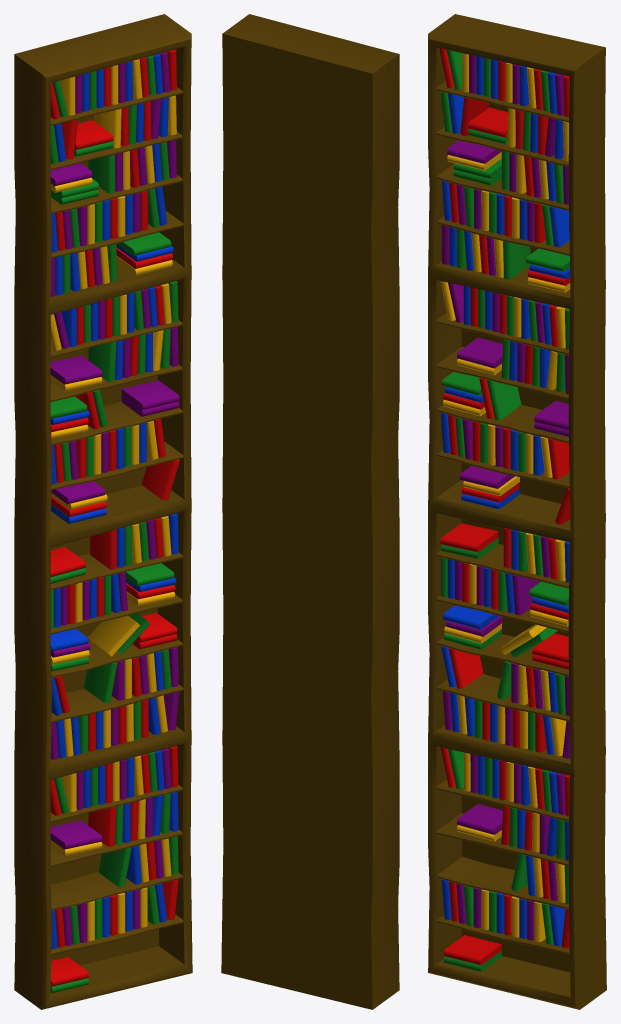
File: bookshelf1.fbx
3 renders of one model, left to right at view 1: azimuth 30°, elevation 25°; view 2: azimuth 150°, elevation 25°; view 3: azimuth 330°, elevation 25°, orthographic.
Visible parts, largest first — view 1: shelf, books; view 2: shelf; view 3: shelf, books.
Boxes of the visible parts, x1=… form: shelf: x1=14, y1=14, x2=192, y2=1009; books: x1=50, y1=49, x2=179, y2=993; shelf: x1=221, y1=14, x2=399, y2=1009; shelf: x1=428, y1=14, x2=606, y2=1009; books: x1=439, y1=48, x2=570, y2=971.
Bounding box in the file's own units: 94.85 × 563 × 31.41.
